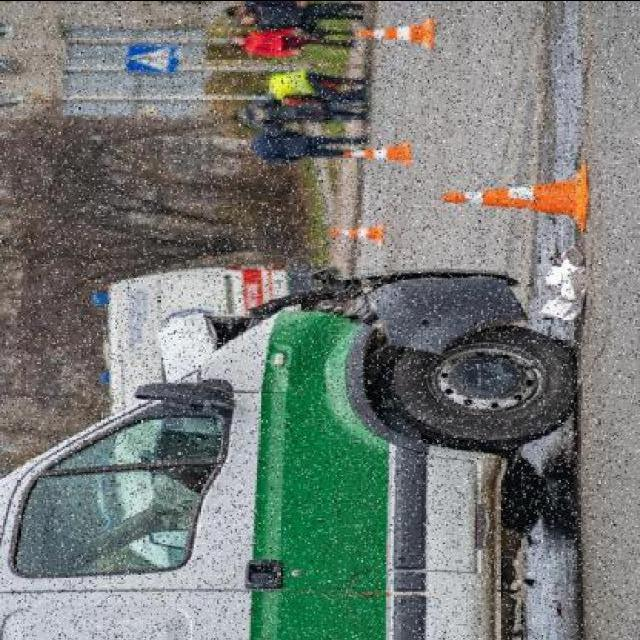front-bumper-dent: (259, 251, 550, 343)
